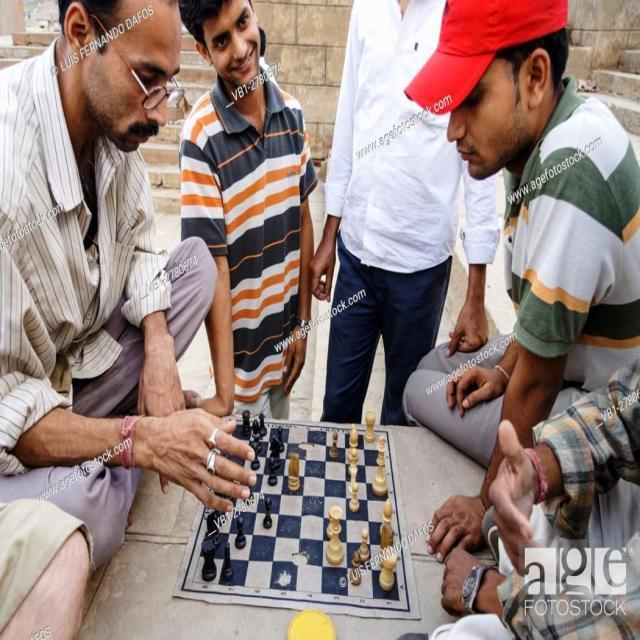chess-table-corners: (190, 570, 203, 588), (393, 588, 403, 604)
